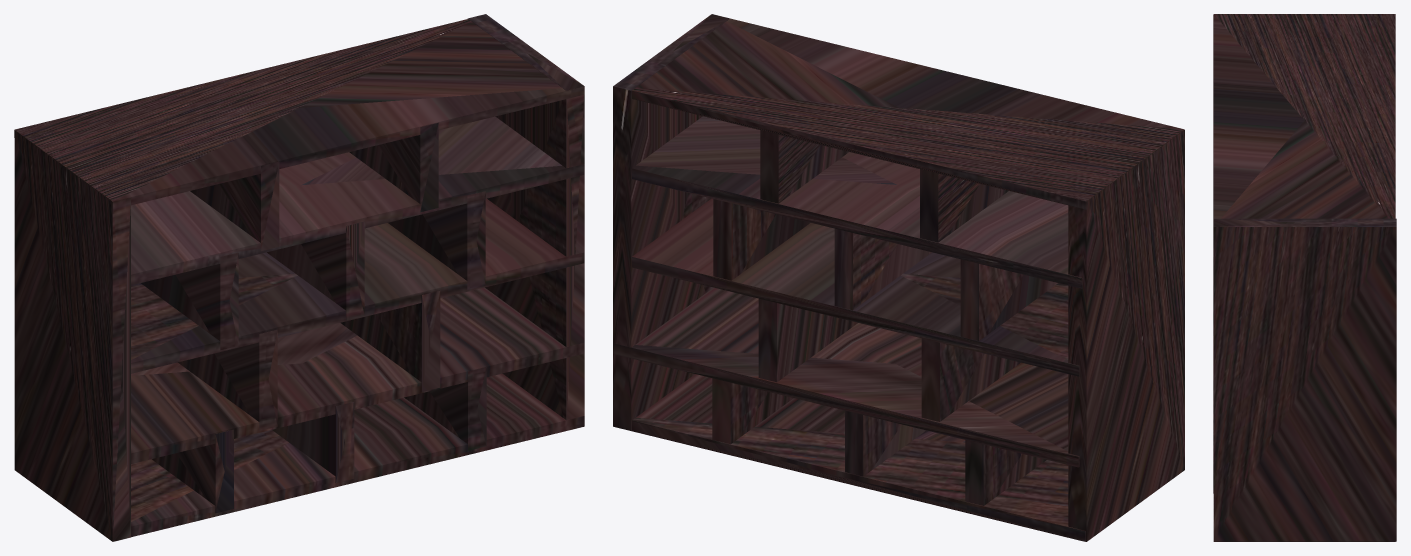
Rendered from biblioteca.obj.
3 renders of one model, left to right at view 1: azimuth 30°, elevation 25°; view 2: azimuth 150°, elevation 25°; view 3: azimuth 270°, elevation 25°, orthographic. The views are drawn at different scales.
Bounding box in the file's own units: 2395 × 1650 × 870.
